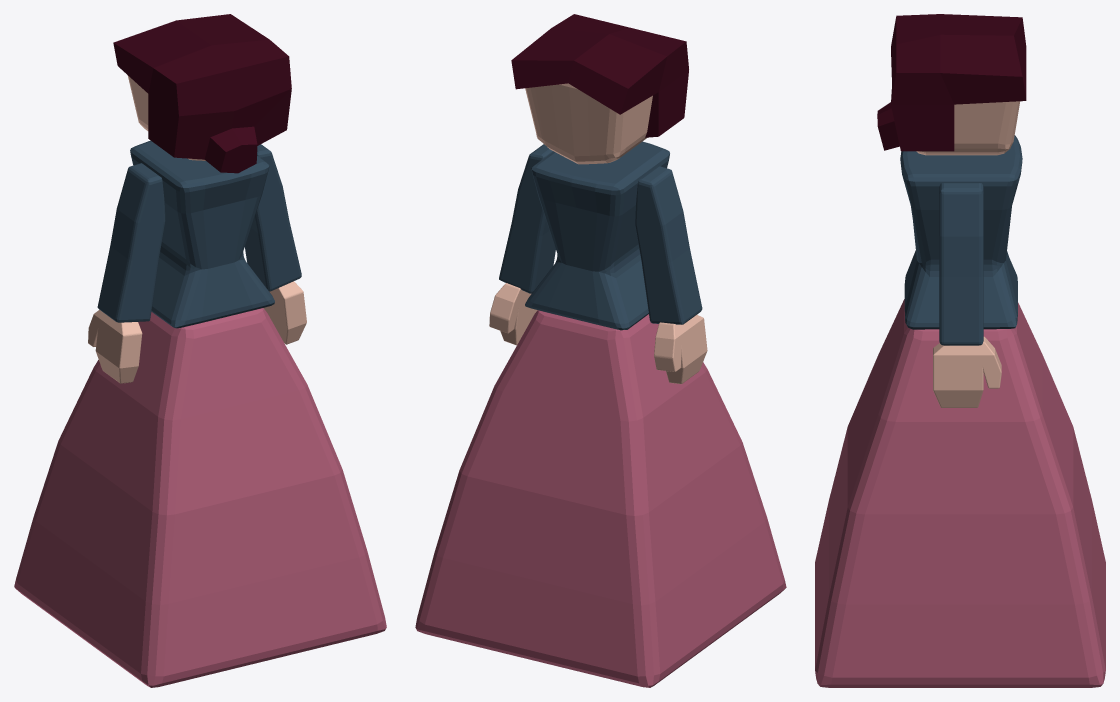
3 renders of one model, left to right at view 1: azimuth 30°, elevation 25°; view 2: azimuth 150°, elevation 25°; view 3: azimuth 270°, elevation 25°, orthographic. The views are drawn at different scales.
Parts seen in each view (by area): view 1: E2_Piernas; view 2: E2_Piernas; view 3: E2_Piernas.
Part boxes in pixels (x1,y1,x2,y2): E2_Piernas: (14, 14, 386, 687); E2_Piernas: (415, 14, 786, 687); E2_Piernas: (815, 14, 1105, 687).
Size of the model in its own units: 296 by 670 by 296.
